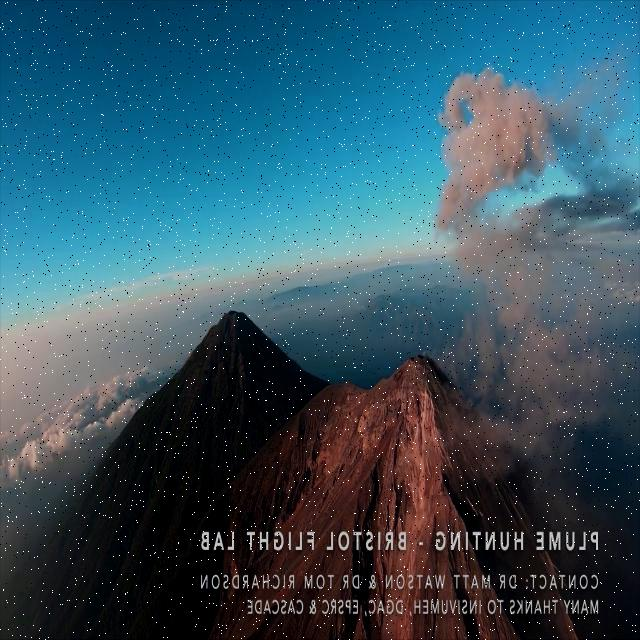Plume: (432, 41, 558, 238)
Summit: (313, 348, 555, 518)
